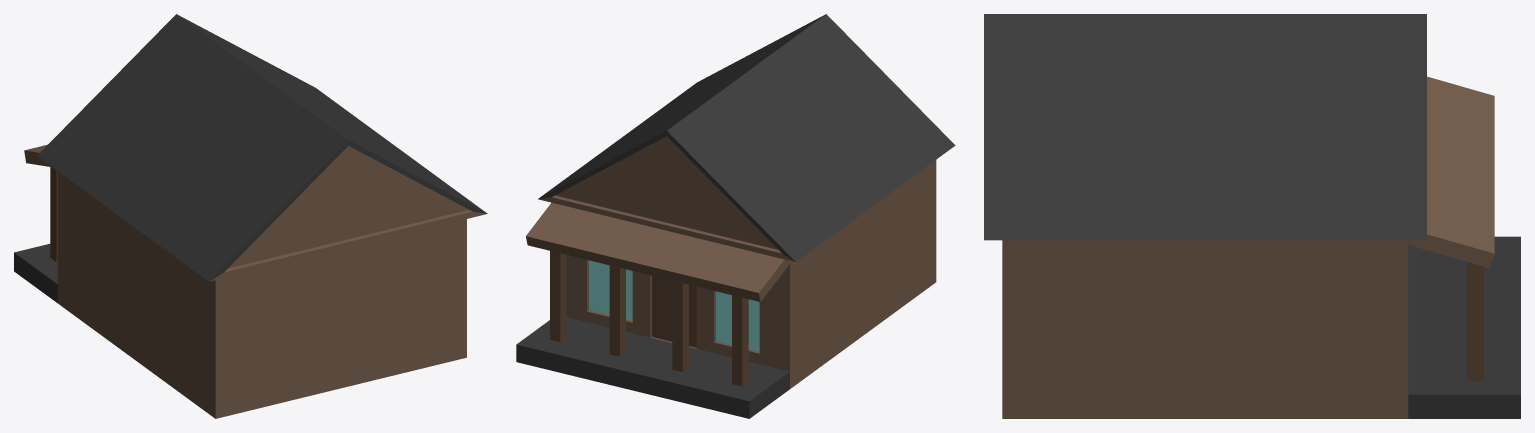
The model's file is House1.fbx.
3 views of the same model, side by side, from view 1: azimuth 30°, elevation 25°; view 2: azimuth 150°, elevation 25°; view 3: azimuth 270°, elevation 25° (orthographic). The views are drawn at different scales.
Visible parts, largest first — view 1: pCube10, House2, pCube11, pCube14; view 2: pCube10, House2, pCube11, pCube12, pCube15, pCube14, pCube16, pCube13; view 3: pCube10, House2, pCube11, pCube12, pCube13.
Boxes of the visible parts, x1,y1,x2,y2 form: pCube10: [37, 14, 487, 281]; House2: [57, 171, 466, 418]; pCube11: [14, 243, 57, 302]; pCube14: [50, 167, 57, 262]; pCube10: [538, 14, 955, 261]; House2: [566, 160, 936, 388]; pCube11: [516, 317, 789, 418]; pCube12: [526, 202, 789, 301]; pCube15: [609, 265, 625, 356]; pCube14: [732, 295, 748, 386]; pCube16: [672, 280, 688, 371]; pCube13: [550, 251, 566, 342]; pCube10: [984, 14, 1426, 240]; House2: [1002, 240, 1408, 418]; pCube11: [1408, 236, 1520, 418]; pCube12: [1394, 76, 1494, 268]; pCube13: [1467, 262, 1483, 380].
Bounding box in the file's own units: 682 × 592 × 884.
